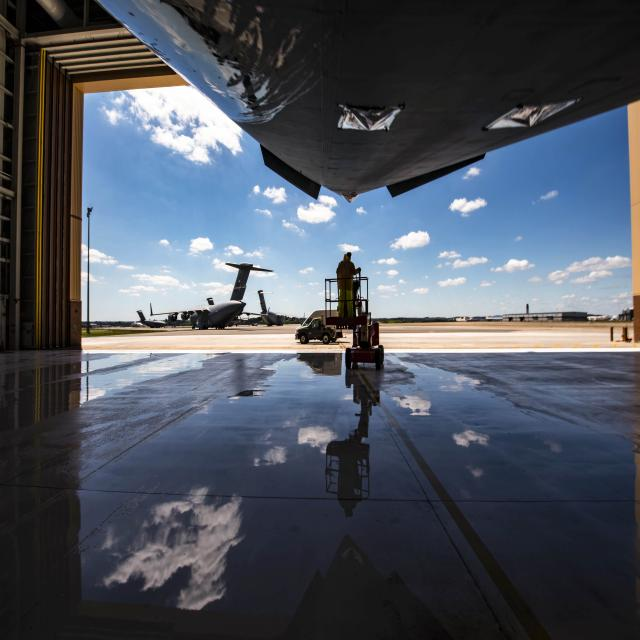MIL_Plane: (150, 263, 275, 329), (239, 292, 305, 325), (192, 293, 245, 323), (133, 312, 166, 326)
